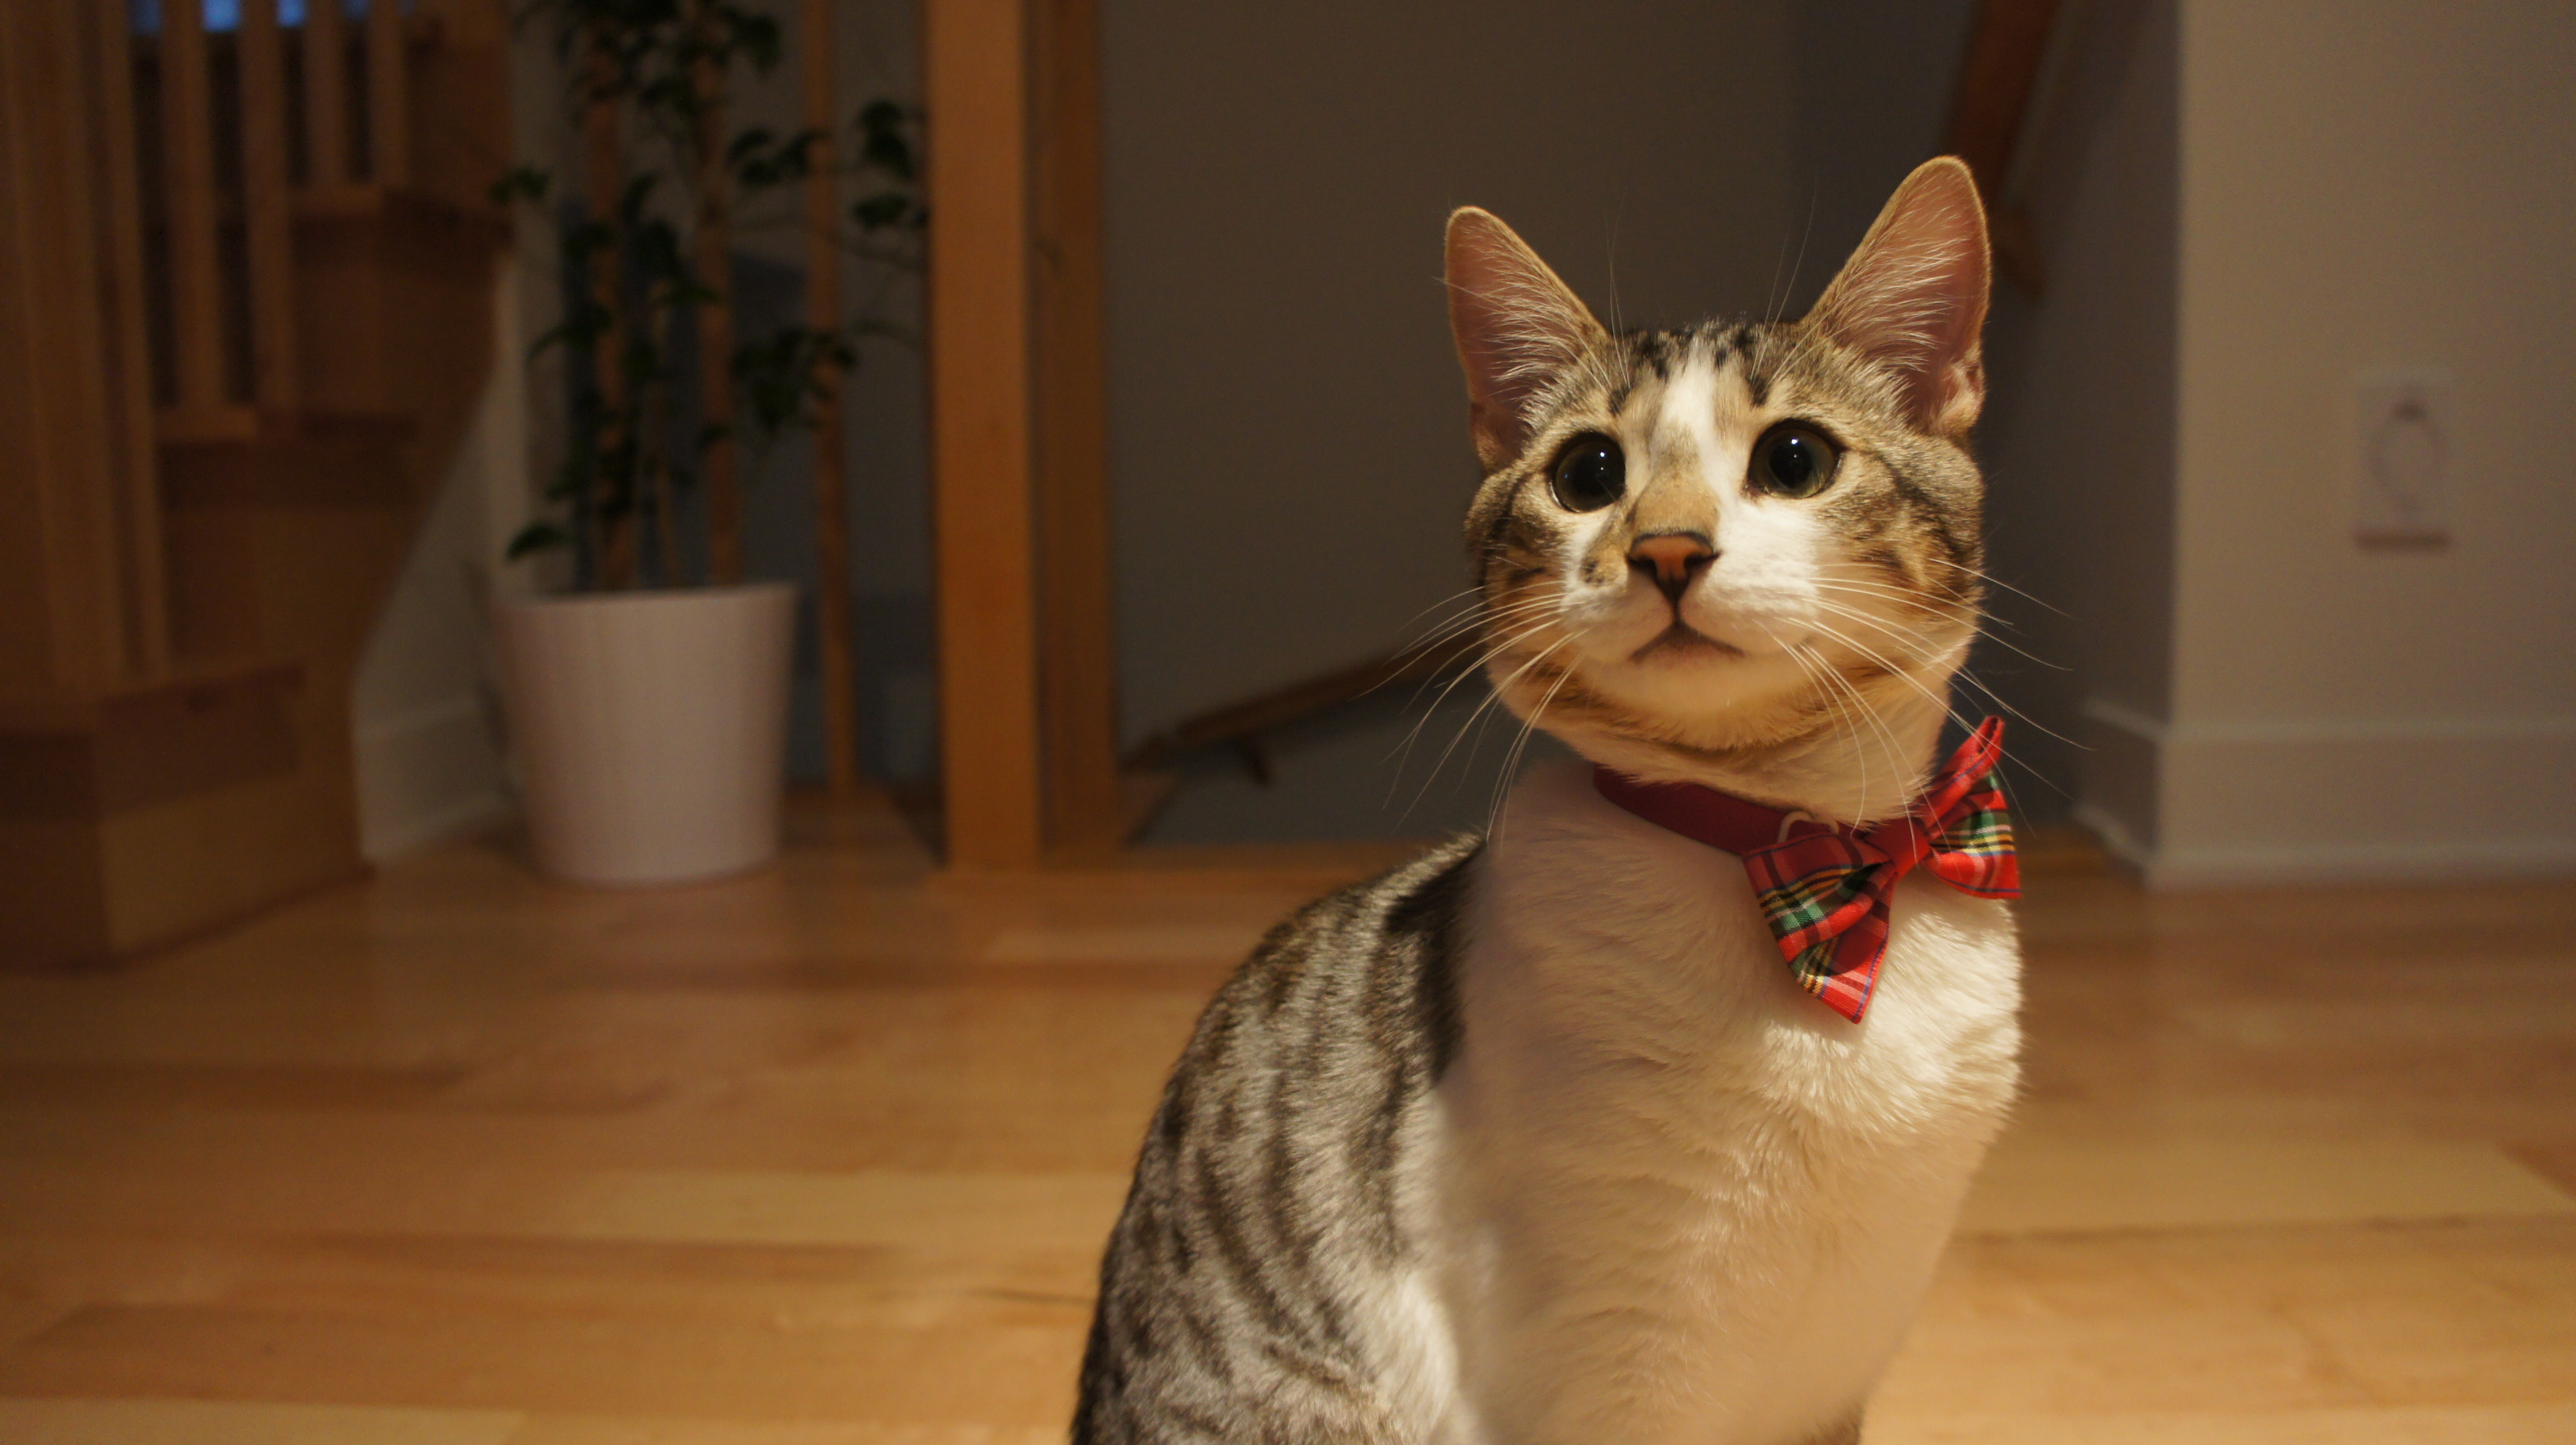cat: (1062, 119, 2104, 1445)
cat-face: (1396, 120, 2102, 881)
